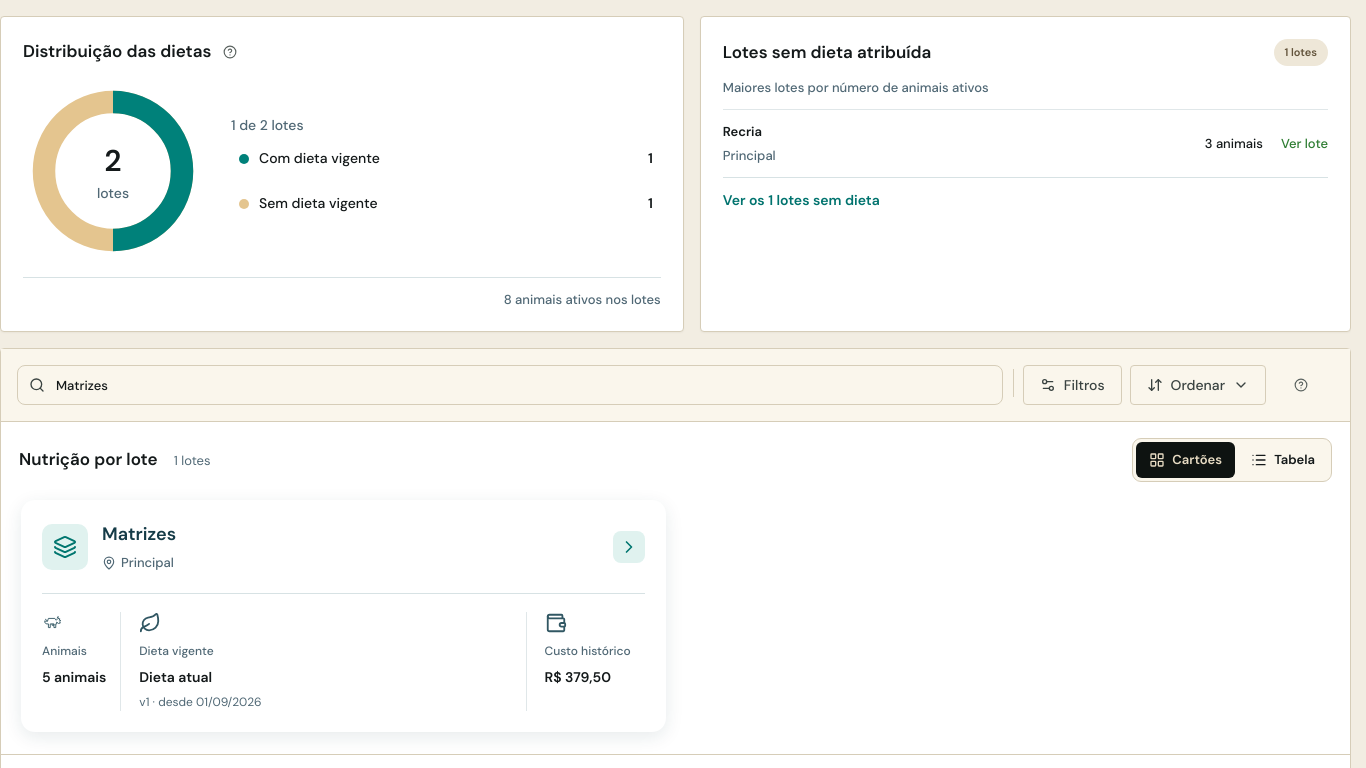
panorama nutricional sem indicadores repetidos › mantém o contexto inteiro no panorama e preserva a busca ao refinar a dieta
Check: the link "Matrizes" is shown, box x1=102 y1=522 x2=176 y2=546
Check: the text "8 animais ativos nos lotes" is shown, box x1=23 y1=276 x2=661 y2=309
Click the button "Filtros" at (1072, 385), box x1=1023 y1=365 x2=1122 y2=405
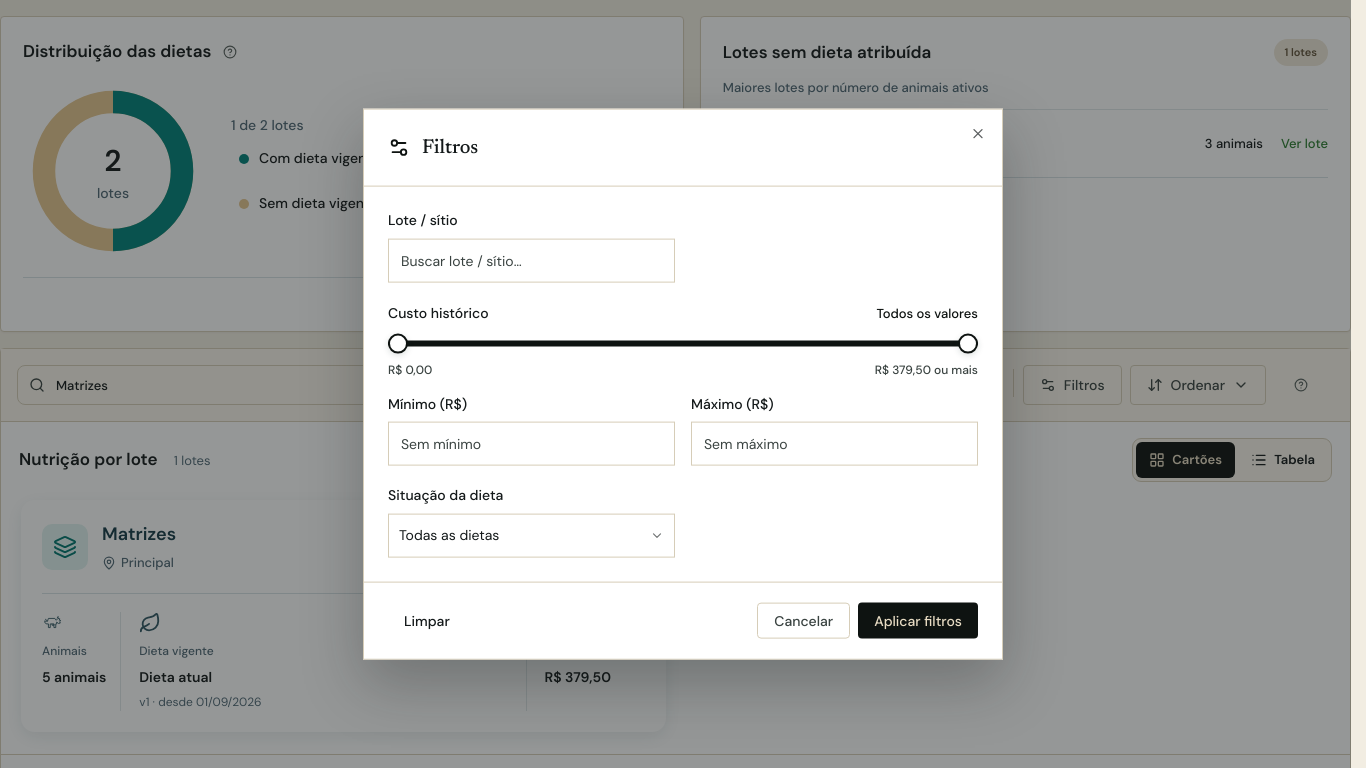
Click the dropdown named "Situação da dieta" at (449, 535), box x1=388 y1=513 x2=675 y2=557
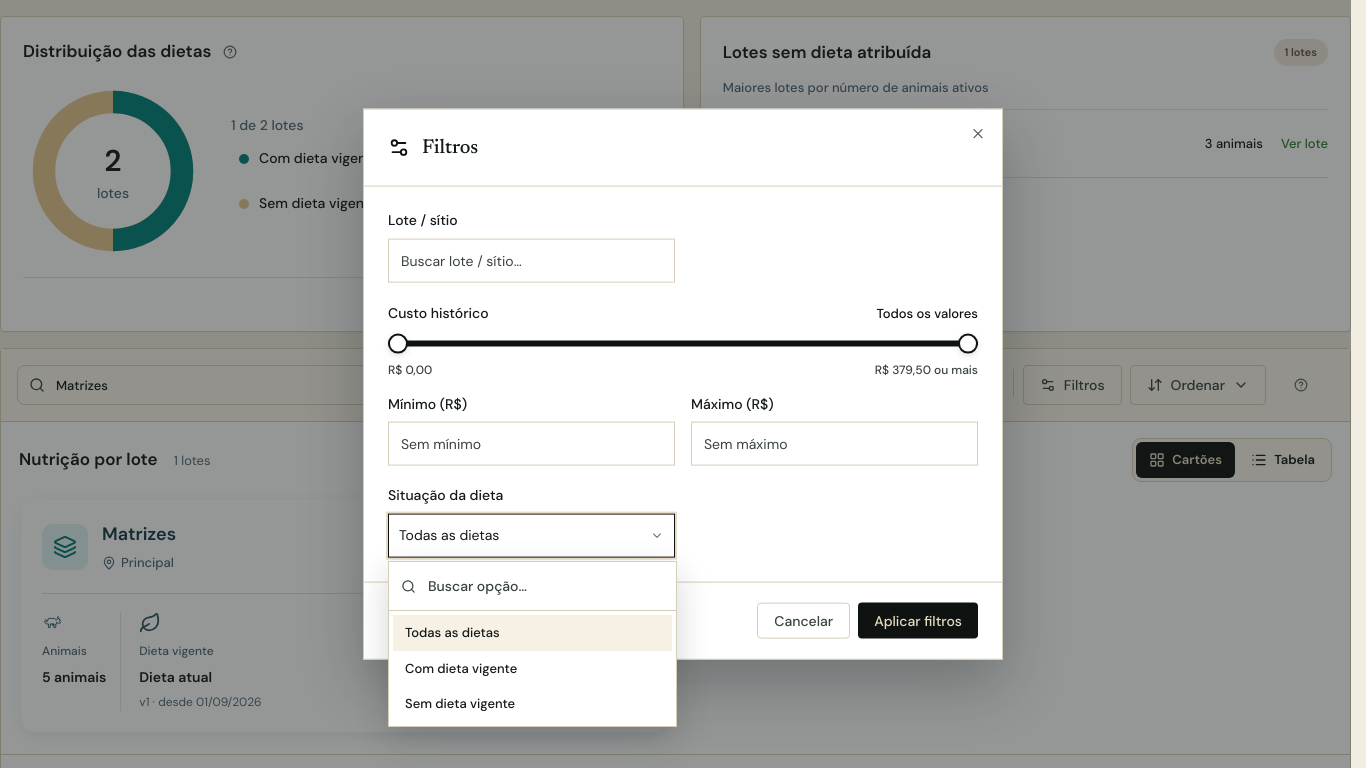
Click the option "Sem dieta vigente" at (460, 704), box x1=405 y1=695 x2=515 y2=712
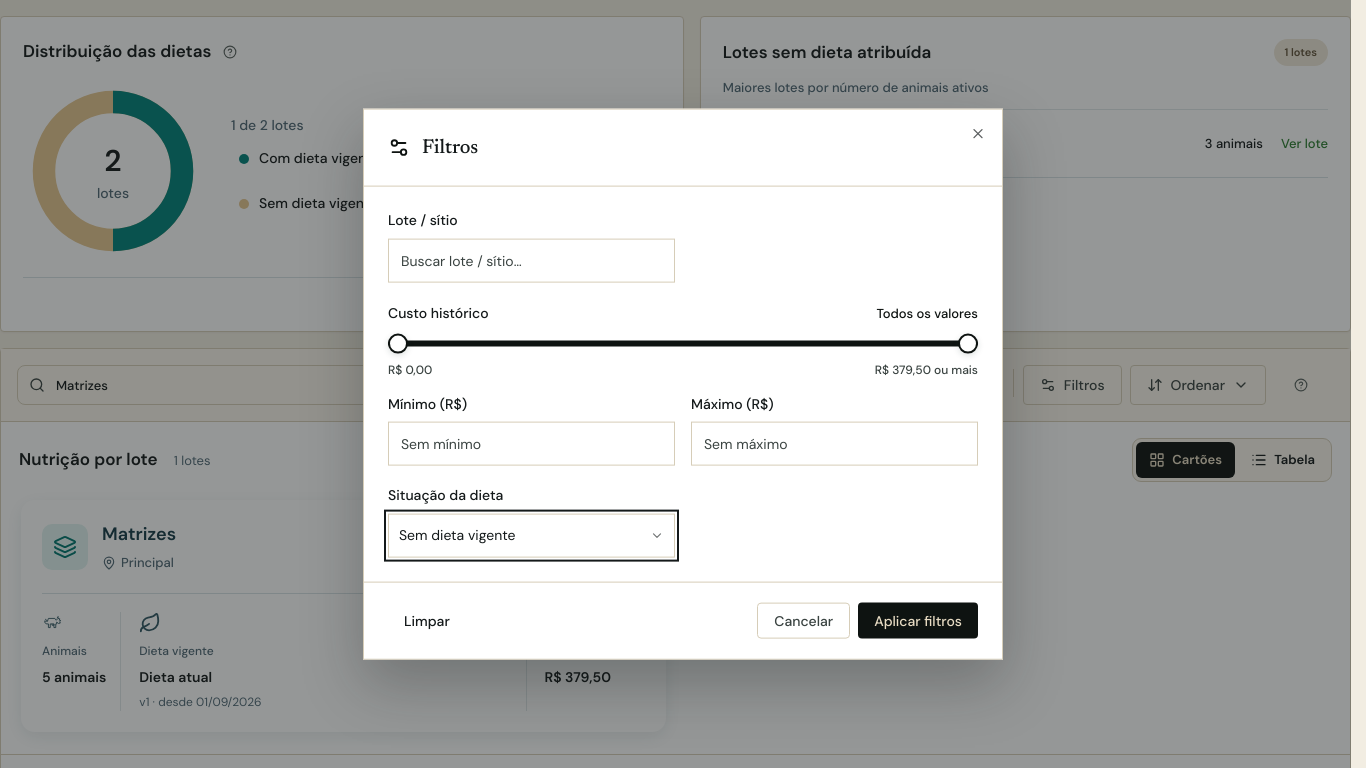
Click the button "Aplicar filtros" at (918, 620), box x1=858 y1=602 x2=978 y2=638
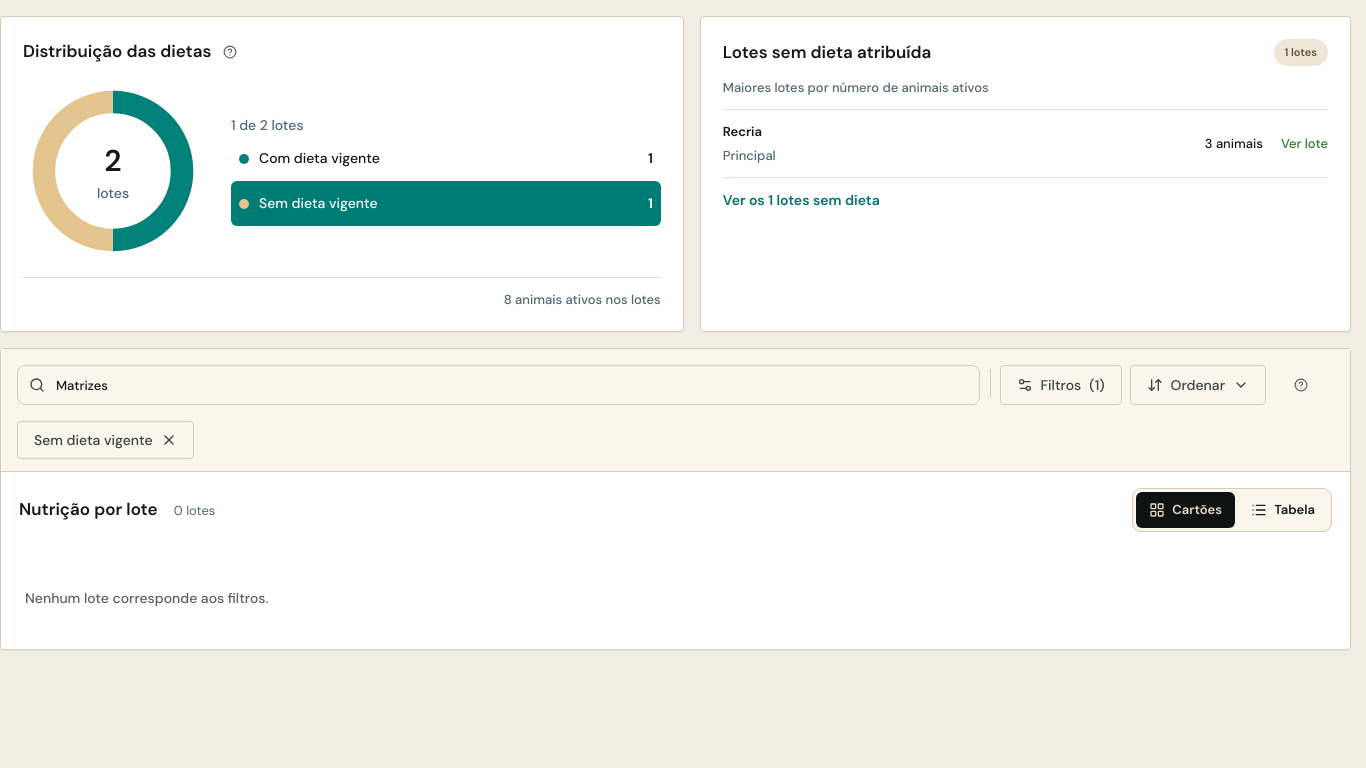
Check: the button with aria-label "Remover filtro: Sem dieta vigente" is shown, box x1=17 y1=421 x2=194 y2=459
Check: the text "Nenhum lote corresponde aos filtros." is shown, box x1=25 y1=589 x2=268 y2=607
